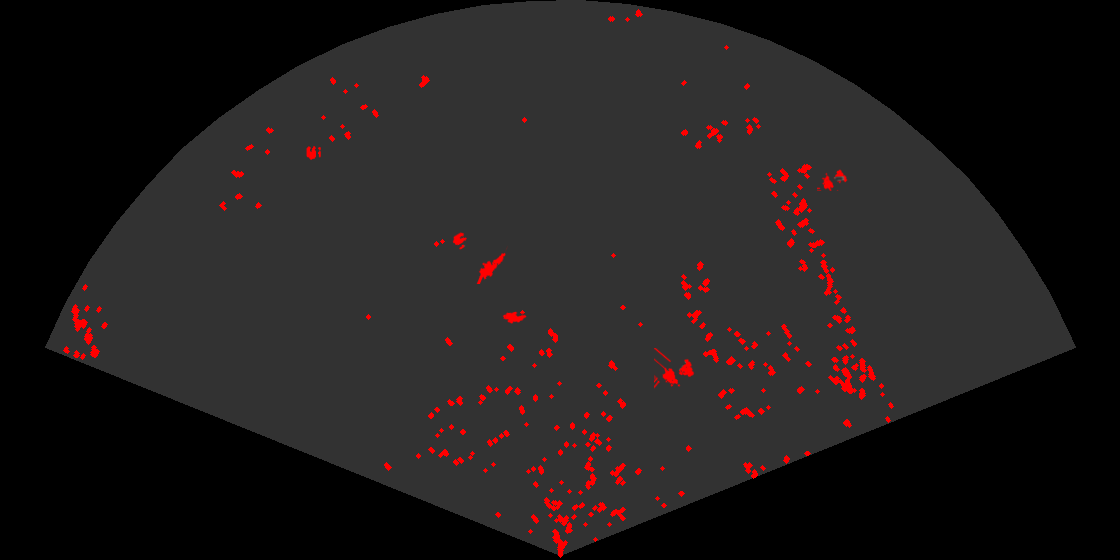AUV: (501, 310, 528, 325)
ball: (451, 231, 468, 251), (305, 145, 322, 161)
cage: (654, 348, 696, 390), (817, 168, 849, 191)
frogman: (475, 245, 508, 284)
